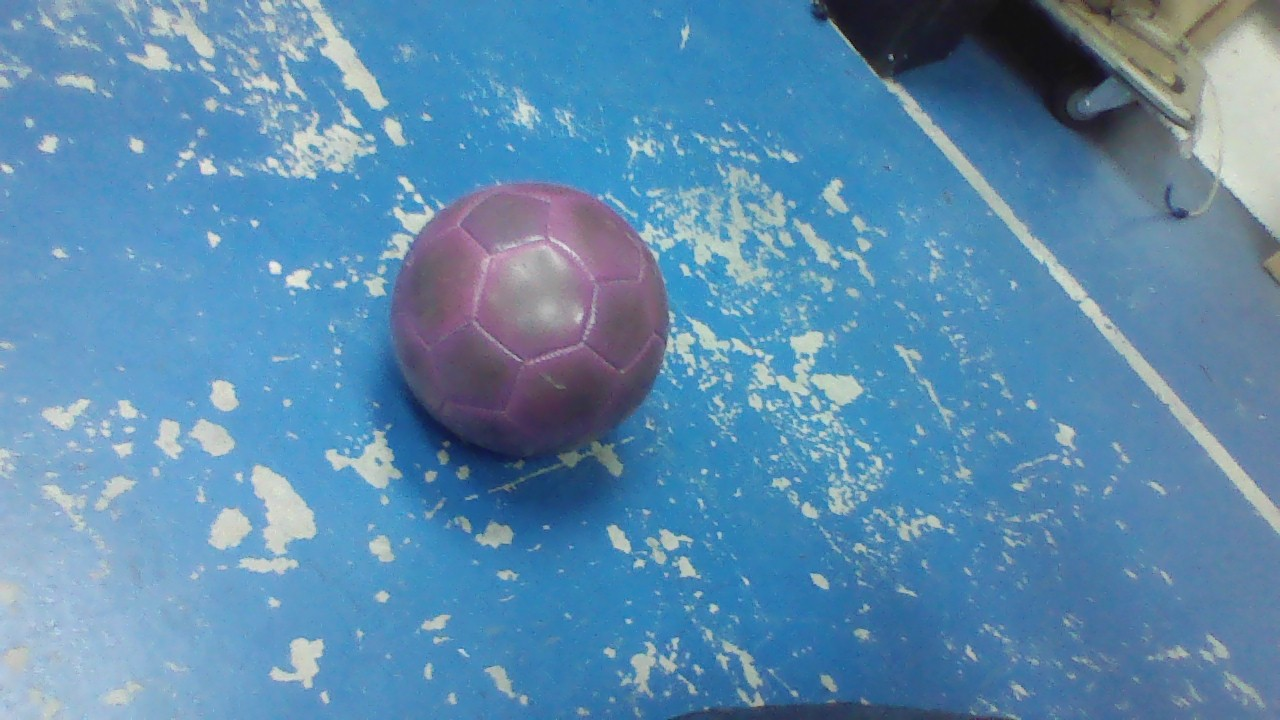Purple: (391, 182, 669, 457)
